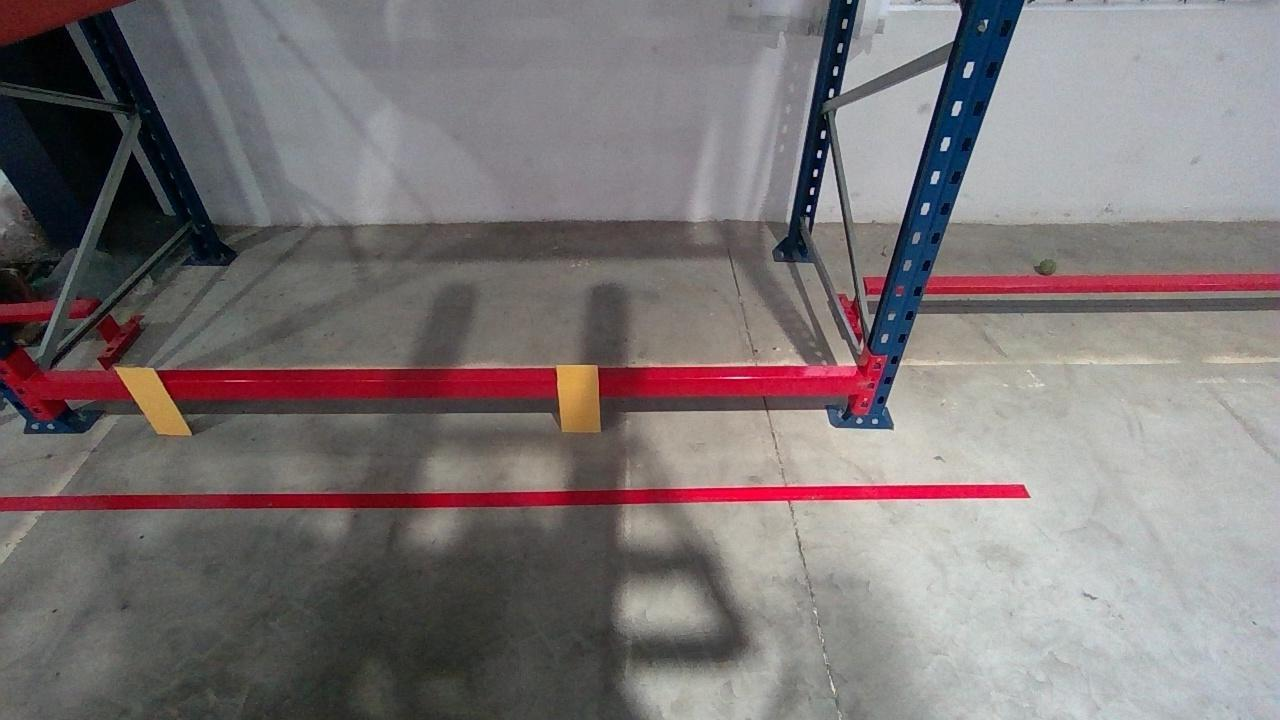h_rack: (18, 376, 873, 399)
orange_strip: (111, 367, 192, 433), (554, 365, 600, 433)
red_line: (4, 482, 1034, 509)
